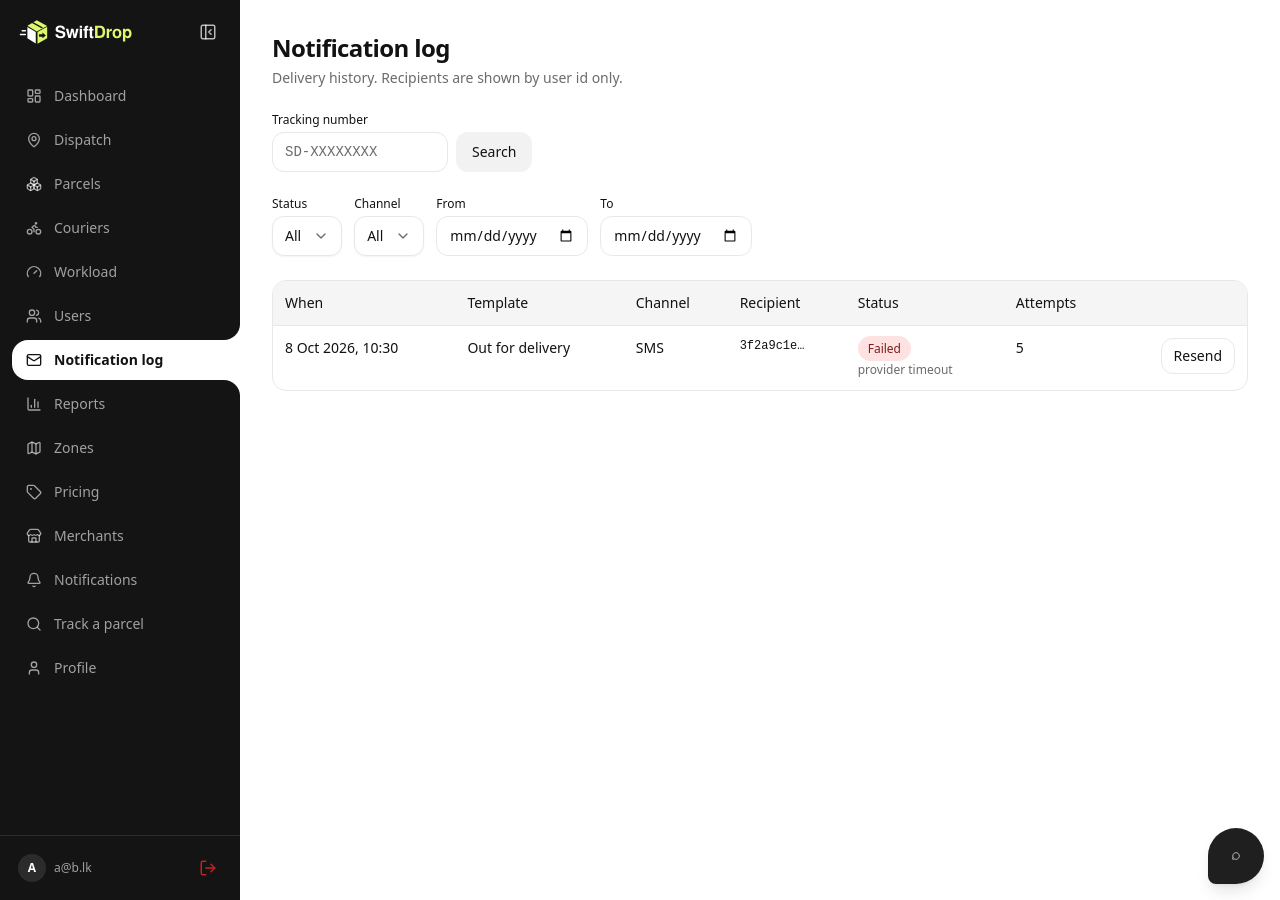
it: admin notification log › surfaces a resend failure
This screenshot has width=1280, height=900.
Click the button "Resend": coordinates (1198, 356) [1160, 338, 1235, 374]
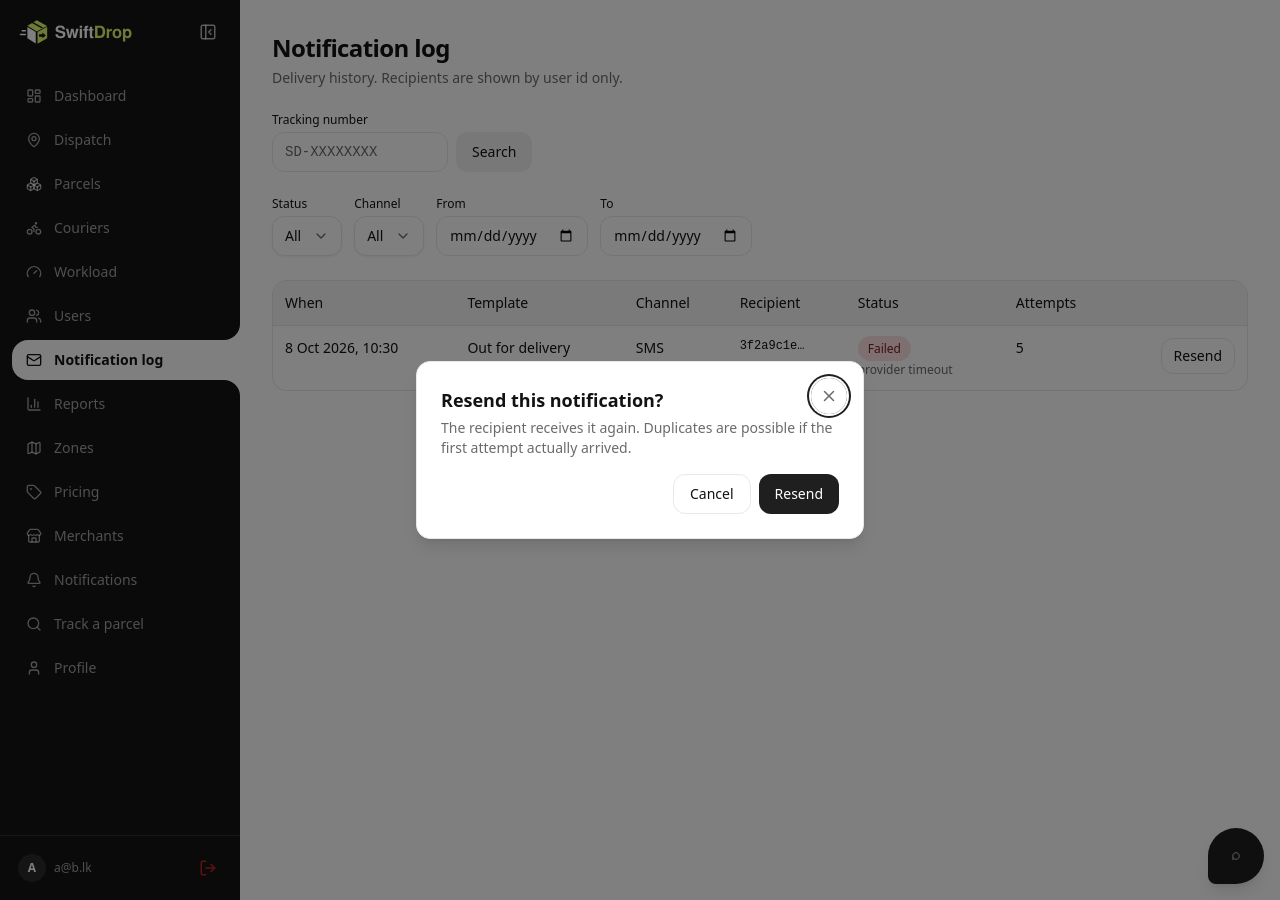
Click the button "Resend": coordinates (799, 494) [758, 474, 839, 514]
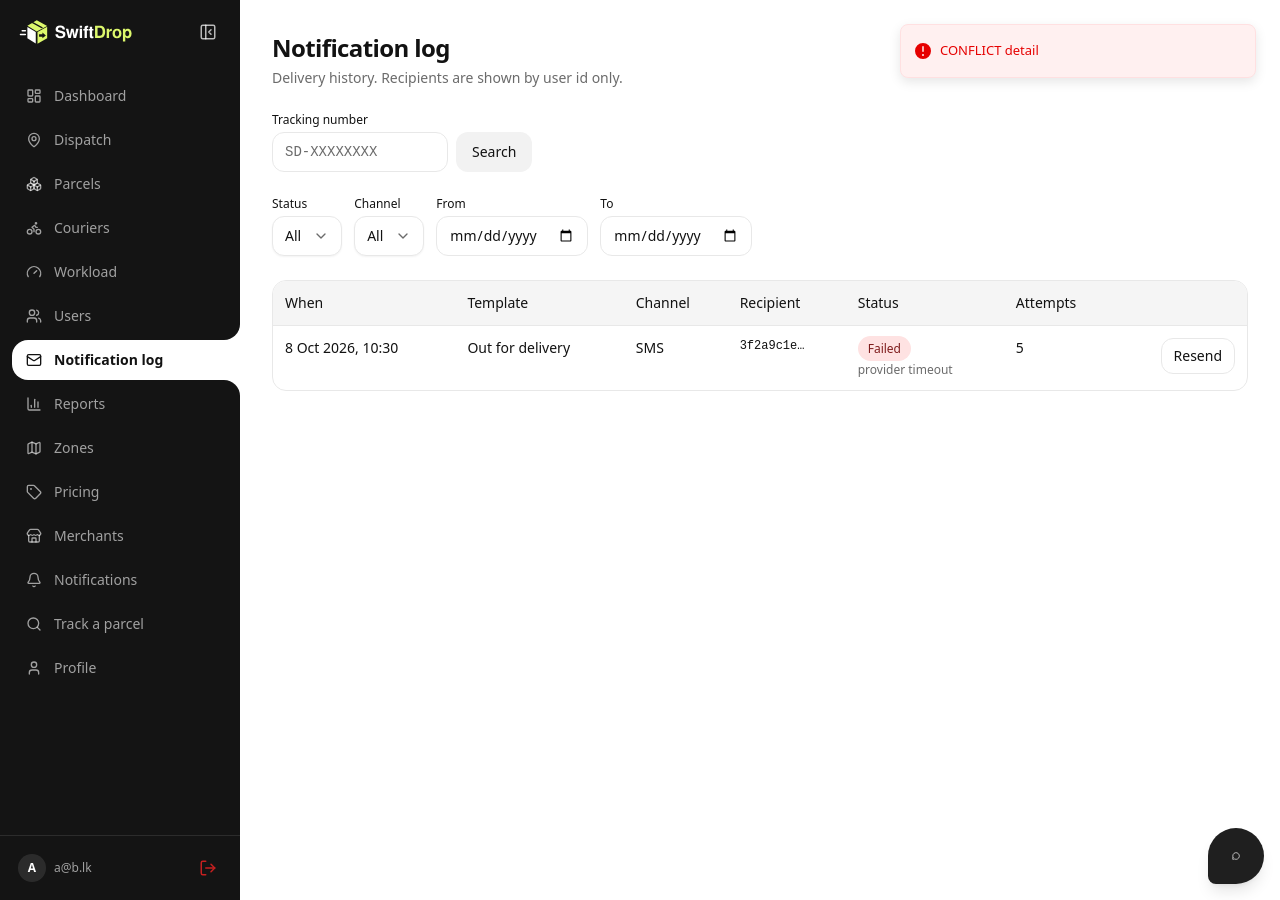
Result: the text "CONFLICT detail" is shown at [940, 41, 1039, 60]
